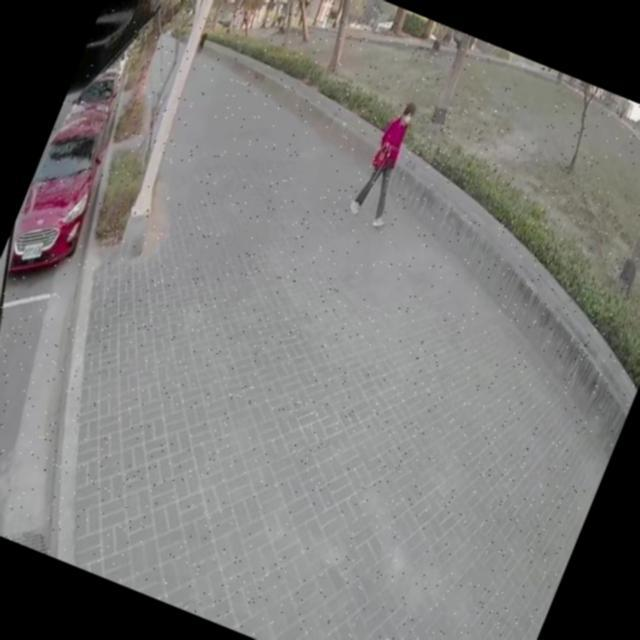person: (346, 94, 424, 224), (196, 31, 210, 54)
